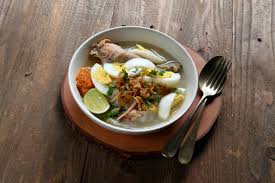soto: (61, 29, 204, 143)
